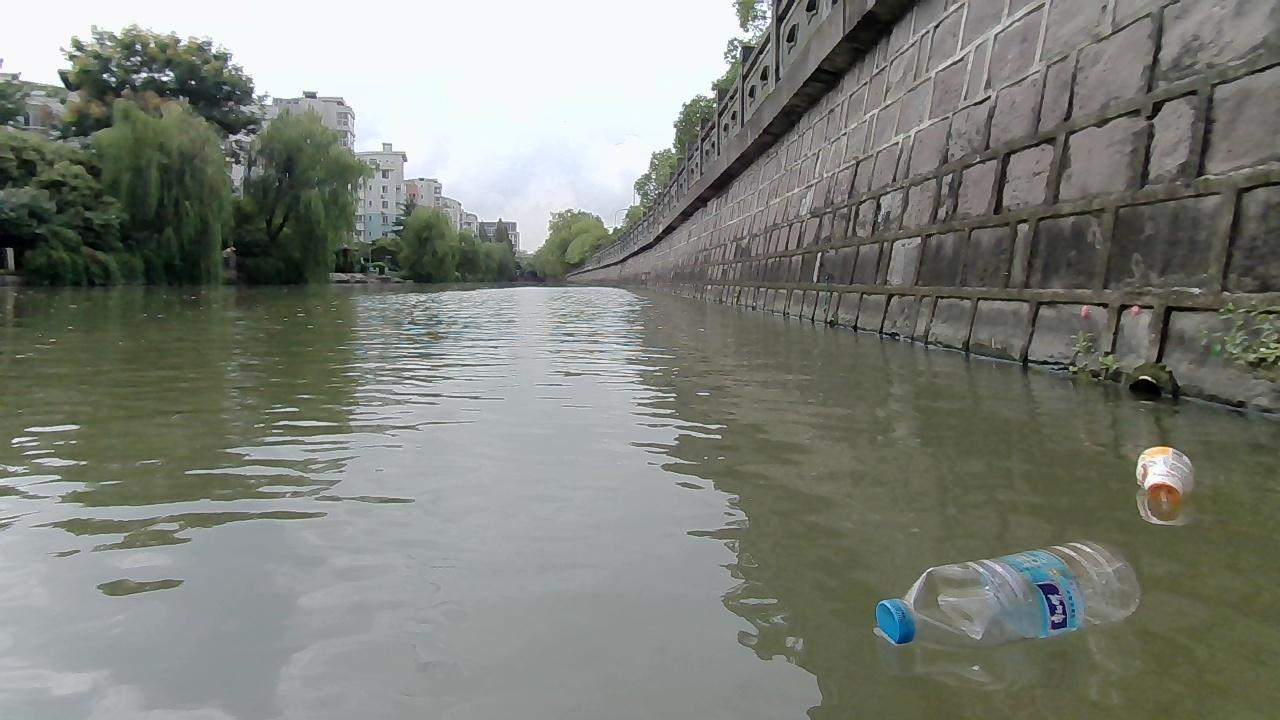bottle: (871, 535, 1143, 645), (1134, 445, 1194, 502)
